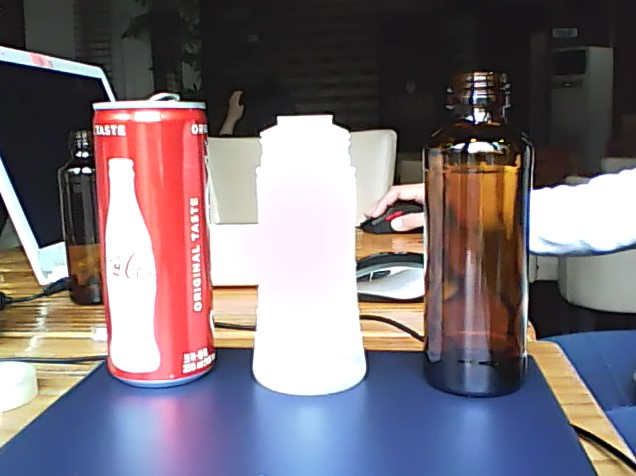Can: (93, 89, 219, 389)
Glass: (418, 66, 533, 401)
Plastic: (245, 111, 374, 401)
